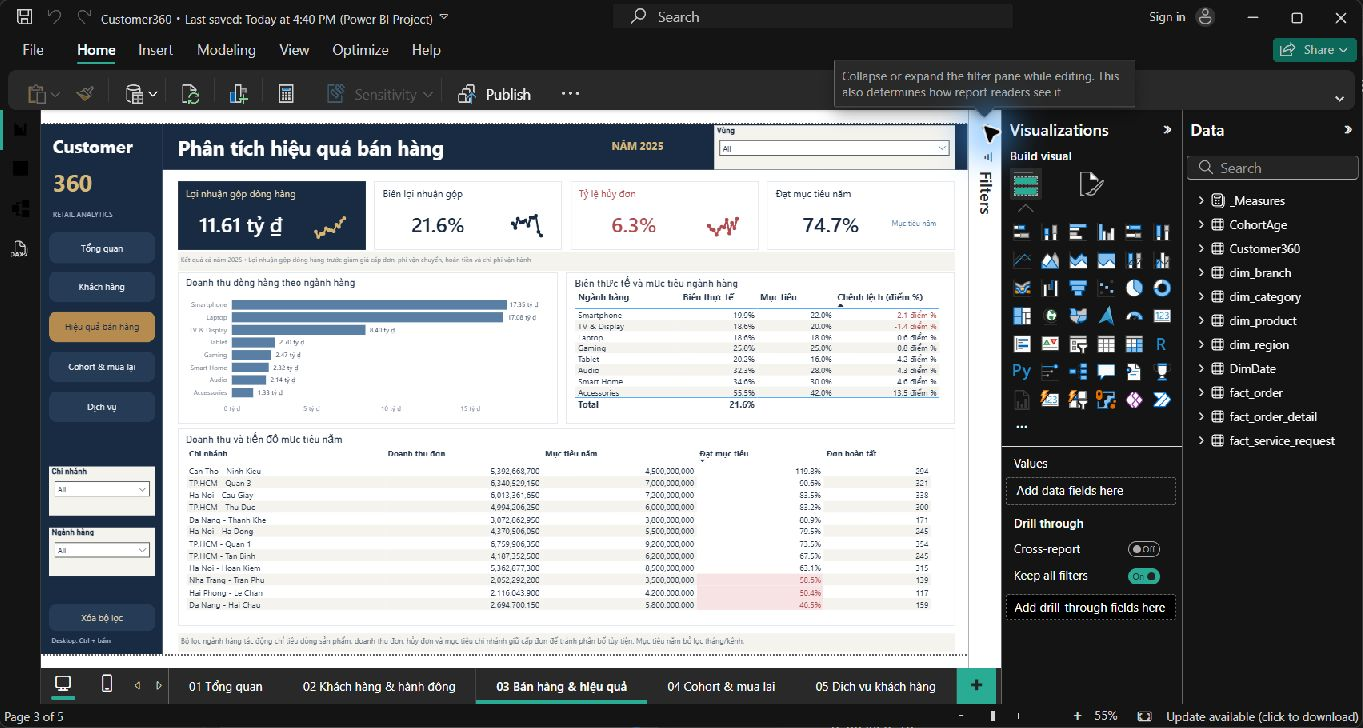

The page's visual inventory and layout, read from the dashboard file:
{"tool":"powerbi","page":{"name":"03 Bán hàng & hiệu quả","canvas":[1680,960],"ordinal":2},"visuals":[{"type":"textbox","box":[0,0,220,960],"z":0},{"type":"textbox","box":[220,0,1460,82],"z":0},{"type":"actionButton","box":[248,104,340,124],"z":1},{"type":"actionButton","box":[604,104,340,124],"z":1},{"type":"actionButton","box":[960,104,340,124],"z":1},{"type":"actionButton","box":[1316,104,340,124],"z":1},{"type":"actionButton","box":[248,268,688,274],"z":1},{"type":"actionButton","box":[952,268,704,274],"z":1},{"type":"actionButton","box":[248,550,1408,358],"z":1},{"type":"actionButton","box":[14,195,192,56],"z":20},{"type":"actionButton","box":[14,267,192,56],"z":20},{"type":"actionButton","box":[14,339,192,56],"z":20},{"type":"actionButton","box":[14,411,192,56],"z":20},{"type":"actionButton","box":[14,483,192,56],"z":20},{"type":"actionButton","box":[14,870,192,48],"z":20},{"type":"textbox","box":[248,230,1408,35],"z":29},{"type":"slicer","title":"Vùng","fields":{"Values":["dim_region.region_name"]},"box":[1220,1,436,80],"z":30},{"type":"slicer","title":"Chi nhánh","fields":{"Values":["dim_branch.branch_name"]},"box":[14,620,192,89],"z":31},{"type":"slicer","title":"Ngành hàng","fields":{"Values":["dim_category.category_name"]},"box":[14,730,192,89],"z":32},{"type":"textbox","box":[248,923,1408,33],"z":40},{"type":"clusteredBarChart","title":"Doanh thu dòng hàng theo ngành hàng","fields":{"Category":["dim_category.category_name"],"Y":["_Measures.Line Revenue Bn"]},"box":[258,276,668,258],"z":45},{"type":"tableEx","title":"Biên thực tế và mục tiêu ngành hàng","fields":{"Values":["dim_category.category_name","_Measures.Gross Line Margin","_Measures.Target Margin","_Measures.Margin Gap pp"]},"box":[962,276,684,258],"z":45},{"type":"tableEx","title":"Doanh thu và tiến độ mục tiêu năm","fields":{"Values":["dim_branch.branch_name","_Measures.Revenue","_Measures.Annual Branch Target","_Measures.Annual Target Attainment","_Measures.Completed Orders"]},"box":[258,558,1388,342],"z":45},{"type":"card","fields":{"Values":["_Measures.Gross Line Profit Bn"]},"box":[256,144,214,76],"z":60},{"type":"card","fields":{"Values":["_Measures.Gross Line Margin"]},"box":[612,144,214,76],"z":60},{"type":"card","fields":{"Values":["_Measures.Cancellation Rate"]},"box":[968,144,214,76],"z":60},{"type":"card","fields":{"Values":["_Measures.Annual Target Attainment"]},"box":[1324,144,214,76],"z":60},{"type":"lineChart","fields":{"Category":["DimDate.MonthNumber"],"Y":["_Measures.Gross Line Profit Bn"]},"box":[479,149,100,70],"z":65},{"type":"lineChart","fields":{"Category":["DimDate.MonthNumber"],"Y":["_Measures.Gross Line Margin"]},"box":[835,149,100,70],"z":65},{"type":"lineChart","fields":{"Category":["DimDate.MonthNumber"],"Y":["_Measures.Cancellation Rate"]},"box":[1191,149,100,70],"z":65},{"type":"textbox","box":[16,12,196,70],"z":80},{"type":"textbox","box":[242,12,790,65],"z":80},{"type":"textbox","box":[1030,21,170,48],"z":80},{"type":"textbox","box":[16,73,196,76],"z":80},{"type":"textbox","box":[258,108,318,42],"z":80},{"type":"textbox","box":[614,108,318,42],"z":80},{"type":"textbox","box":[970,108,318,42],"z":80},{"type":"textbox","box":[1326,108,318,42],"z":80},{"type":"textbox","box":[16,149,196,40],"z":80},{"type":"textbox","box":[1536,164,112,46],"z":80},{"type":"textbox","box":[14,921,196,33],"z":80}]}

Visuals, with their boxes on the page's 1680x960 design canvas (x1, y1, x2, y2). These are canvas units, not pixel positions in the 1363x728 screenshot, which may show the page scaled, cropped or inside an application window:
textbox: (0,0,220,960)
textbox: (220,0,1680,82)
actionButton: (248,104,588,228)
actionButton: (604,104,944,228)
actionButton: (960,104,1300,228)
actionButton: (1316,104,1656,228)
actionButton: (248,268,936,542)
actionButton: (952,268,1656,542)
actionButton: (248,550,1656,908)
actionButton: (14,195,206,251)
actionButton: (14,267,206,323)
actionButton: (14,339,206,395)
actionButton: (14,411,206,467)
actionButton: (14,483,206,539)
actionButton: (14,870,206,918)
textbox: (248,230,1656,265)
"Vùng" slicer: (1220,1,1656,81)
"Chi nhánh" slicer: (14,620,206,709)
"Ngành hàng" slicer: (14,730,206,819)
textbox: (248,923,1656,956)
"Doanh thu dòng hàng theo ngành hàng" clusteredBarChart: (258,276,926,534)
"Biên thực tế và mục tiêu ngành hàng" tableEx: (962,276,1646,534)
"Doanh thu và tiến độ mục tiêu năm" tableEx: (258,558,1646,900)
card - _Measures.Gross Line Profit Bn: (256,144,470,220)
card - _Measures.Gross Line Margin: (612,144,826,220)
card - _Measures.Cancellation Rate: (968,144,1182,220)
card - _Measures.Annual Target Attainment: (1324,144,1538,220)
lineChart - DimDate.MonthNumber x _Measures.Gross Line Profit Bn: (479,149,579,219)
lineChart - DimDate.MonthNumber x _Measures.Gross Line Margin: (835,149,935,219)
lineChart - DimDate.MonthNumber x _Measures.Cancellation Rate: (1191,149,1291,219)
textbox: (16,12,212,82)
textbox: (242,12,1032,77)
textbox: (1030,21,1200,69)
textbox: (16,73,212,149)
textbox: (258,108,576,150)
textbox: (614,108,932,150)
textbox: (970,108,1288,150)
textbox: (1326,108,1644,150)
textbox: (16,149,212,189)
textbox: (1536,164,1648,210)
textbox: (14,921,210,954)
